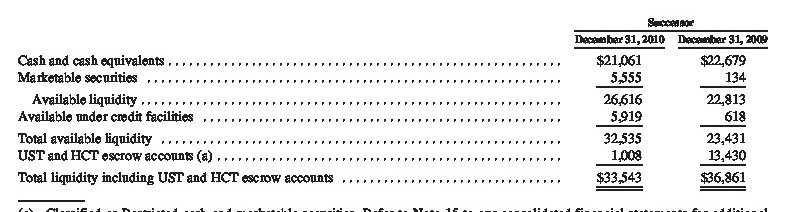table: (0, 0, 789, 212)
